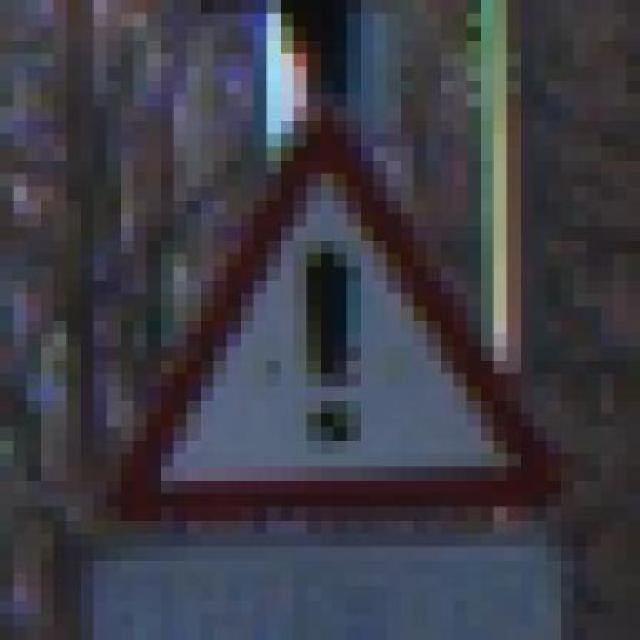Attention Please-: (93, 93, 573, 533)
